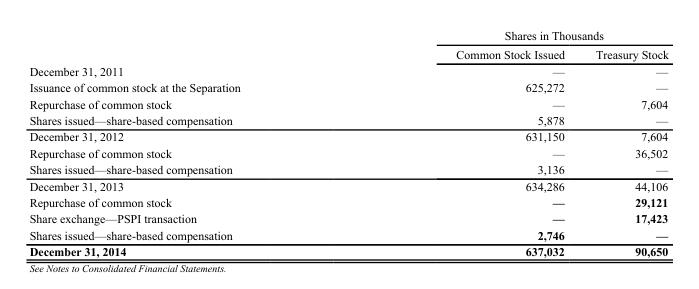table: (28, 28, 667, 257)
table column: (28, 28, 347, 257), (347, 28, 579, 257), (579, 28, 667, 257)
table column header: (28, 28, 667, 62)
table row: (28, 44, 667, 62), (28, 78, 667, 95), (28, 111, 667, 128), (28, 160, 667, 177), (28, 193, 667, 210), (28, 28, 667, 44), (28, 62, 667, 78), (28, 95, 667, 111), (28, 128, 667, 144), (28, 144, 667, 160), (28, 177, 667, 193), (28, 210, 667, 226), (28, 226, 667, 242), (28, 242, 667, 257)
table spanning cell: (347, 28, 667, 44)
